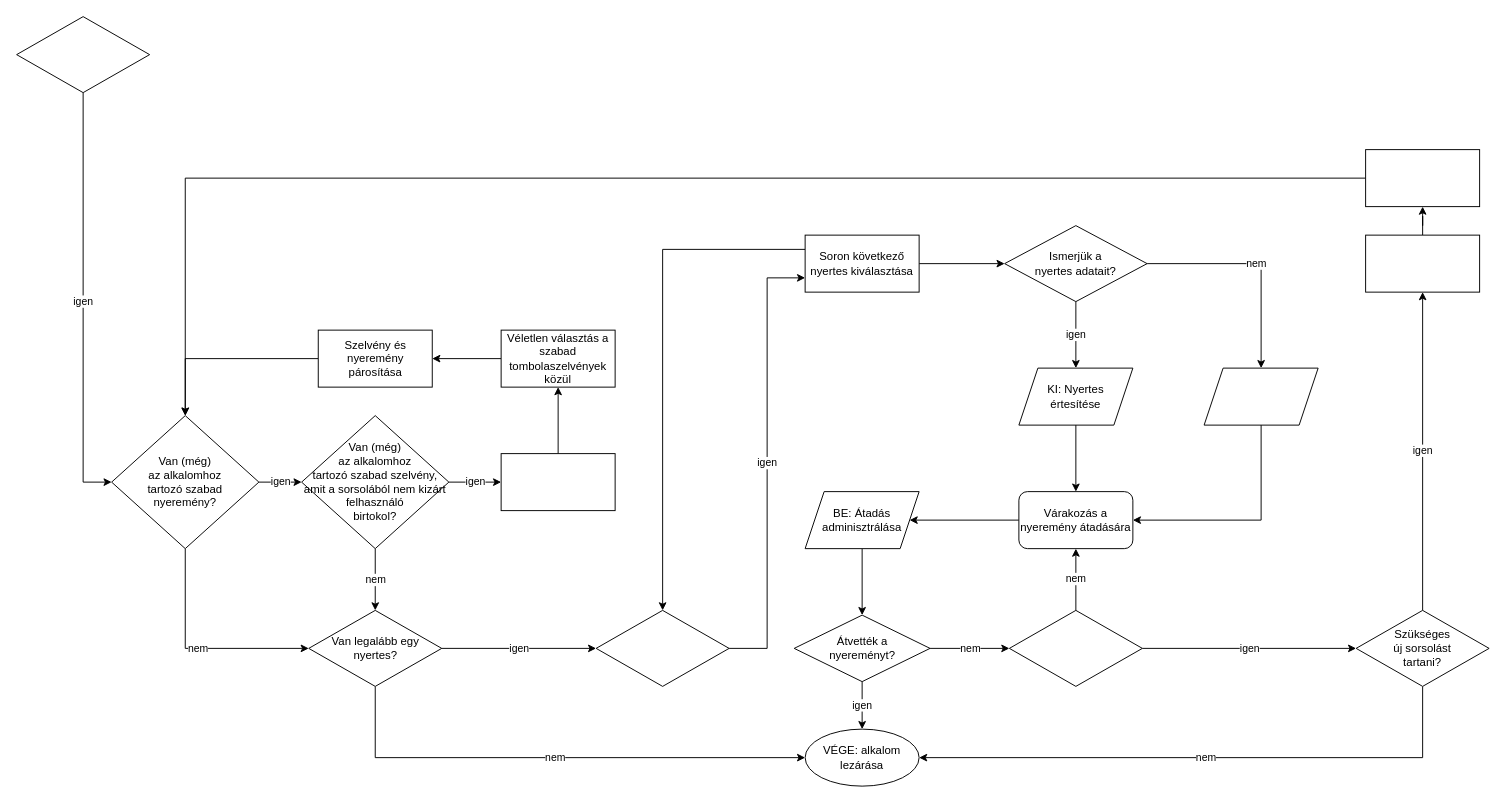
The diagram is 1506 pixels wide and 803 high, and some of its shapes have lost their labels. Here are the shapes that lost their labels. From the top down, the centre of each, then its label:
the point at 83,54: Eljött a sorsolás időpontja?
the point at 1422,178: A nyeremény és szelvény párosításának megszűntetése
the point at 1422,263: Korábbi nyertes kizárása az új sorsolásból
the point at 1260,396: KI: Szervező értesítése a nyertes azonosítójáról
the point at 557,482: Soron következő szabad nyeremény kiválasztása
the point at 662,647: Van még nyertes? (nincs nem)
the point at 1075,647: Lejárt az átvételi határidő?
